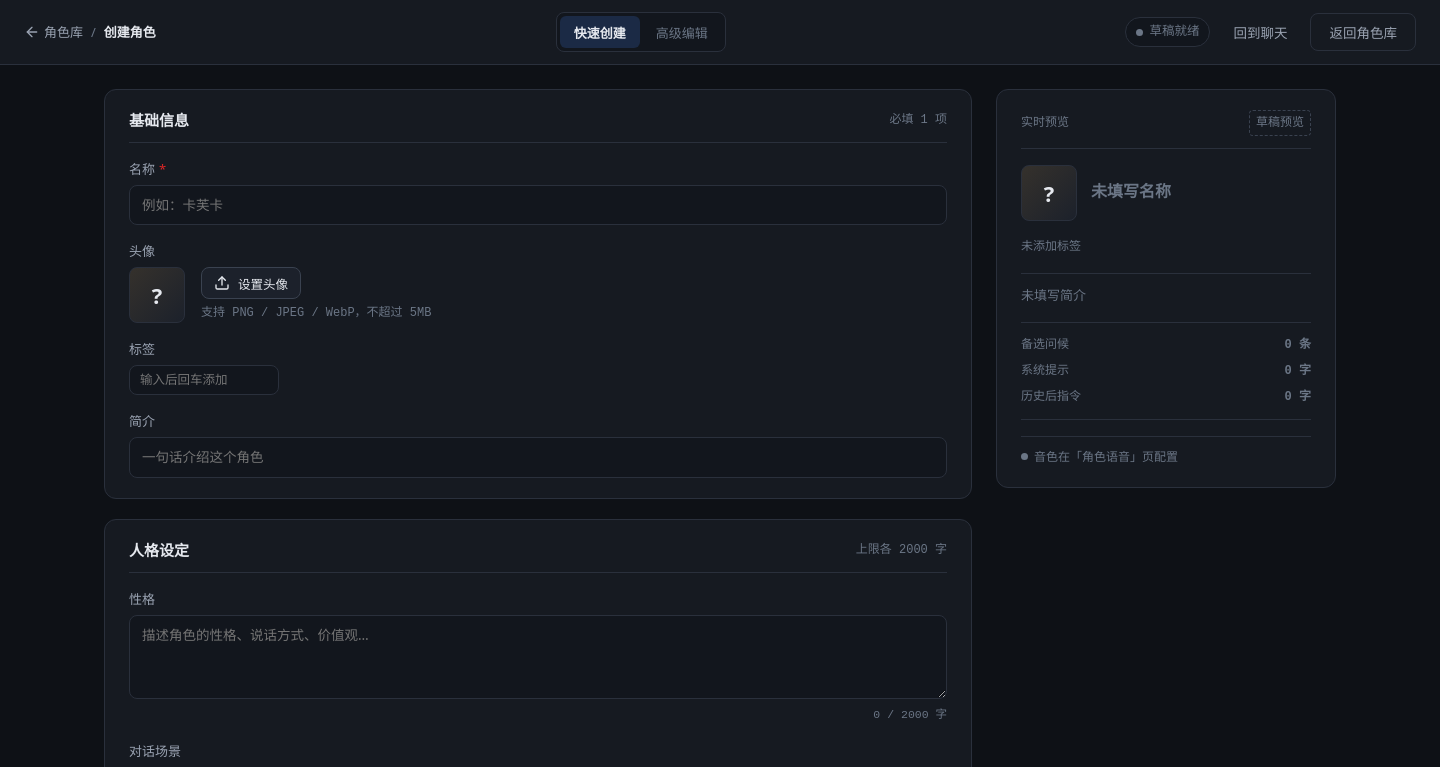
Test: CharacterCreatePage › 标签 › 点击删除按钮移除标签
This screenshot has width=1440, height=767.
Type "待删除标签" into the field named "添加标签" at [204, 380], box [129,365,279,395]
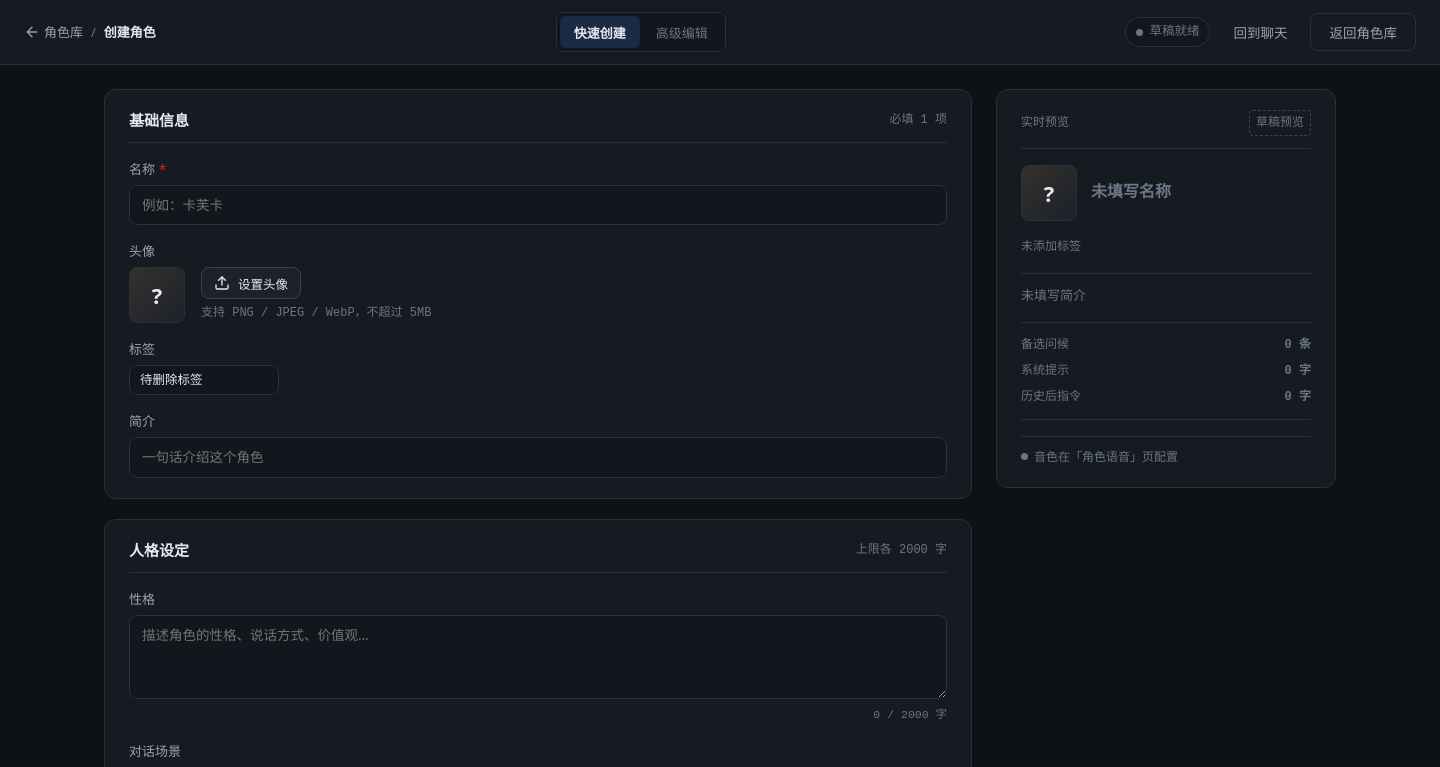
Press Enter in the field named "添加标签", box [129,365,279,395]
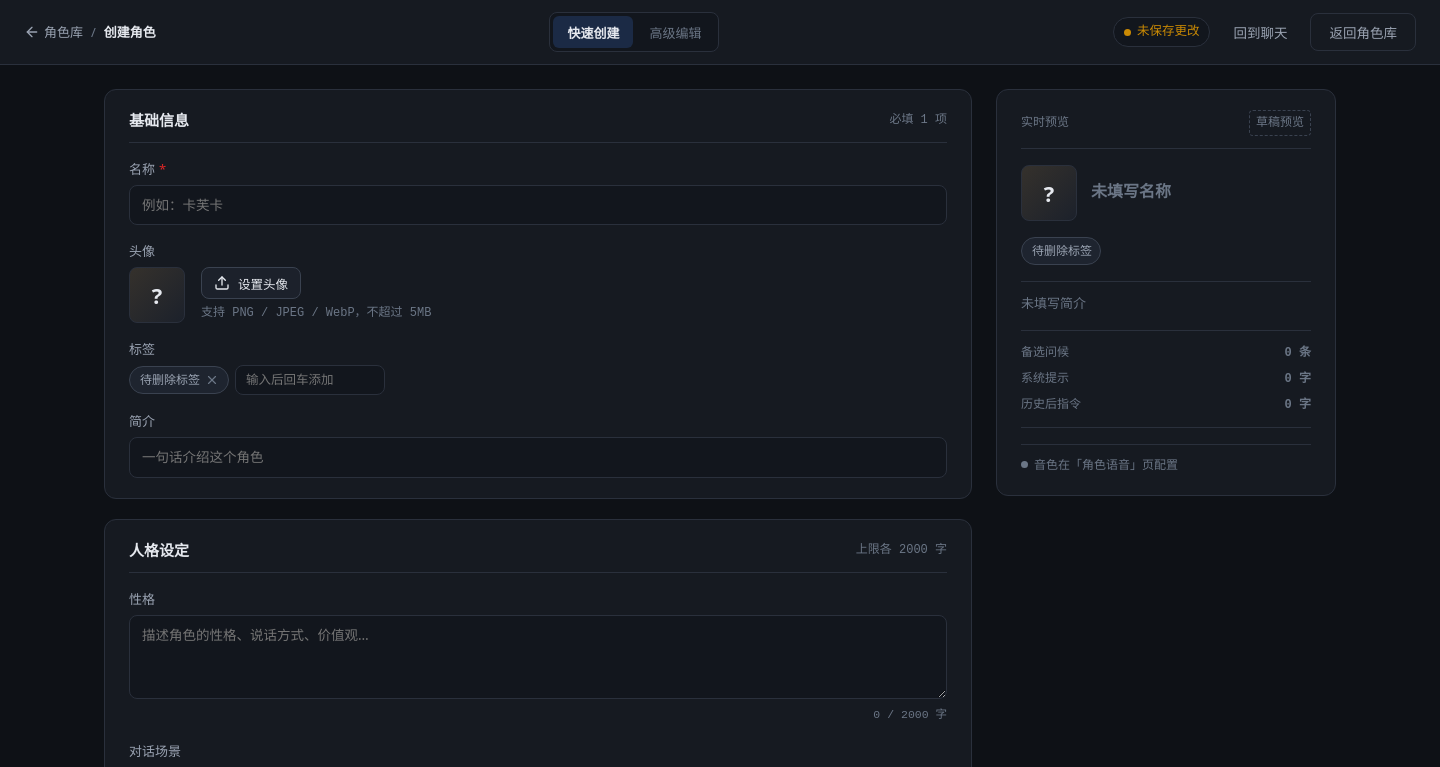
Result: the text "待删除标签" below "支持 PNG / JPEG / WebP，不超过 5MB" is shown at [140,371,200,388]
Click the button named "删除标签「待删除标签」" at [212, 380], box [204,372,220,388]
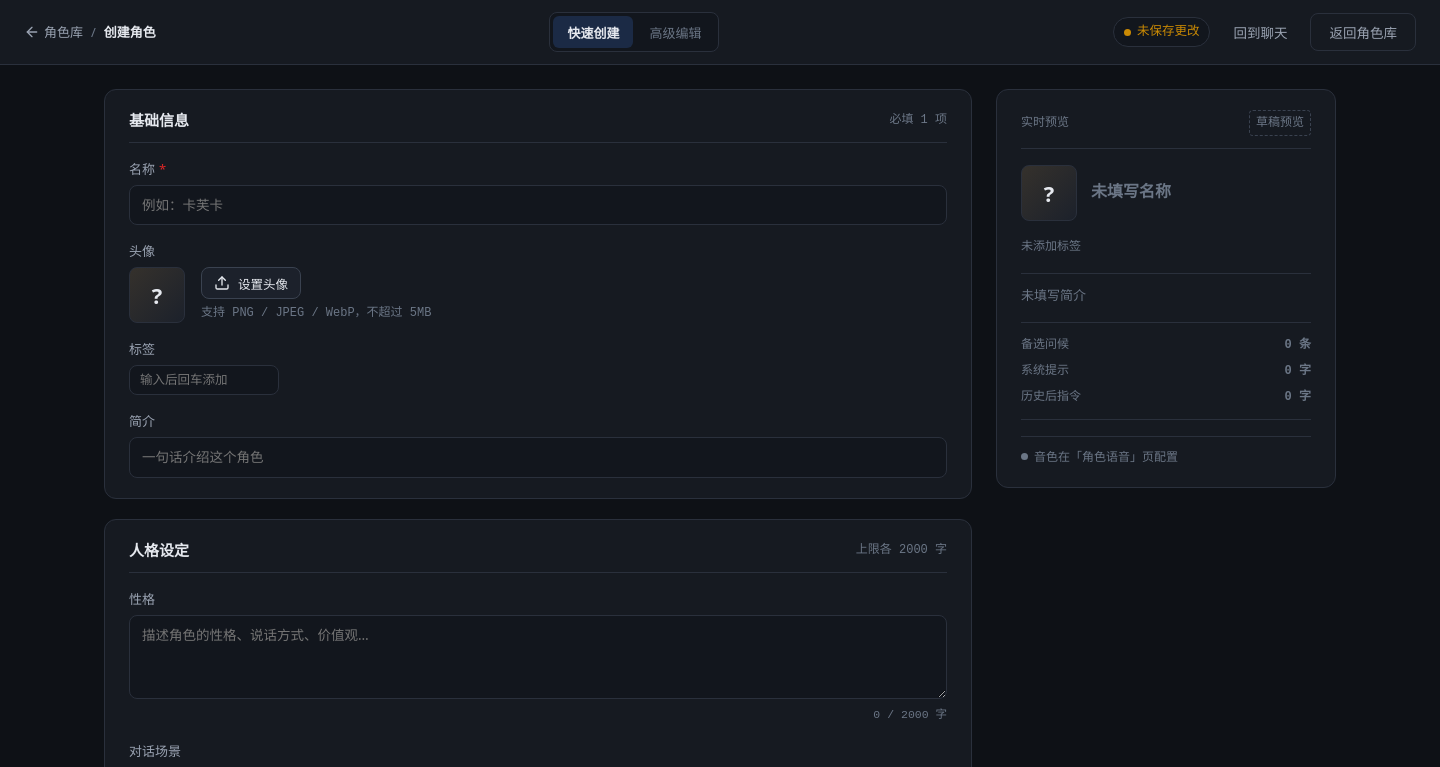
Result: the text "待删除标签" is gone
Result: the element with test id "preview-tags" reads "未添加标签" at [1021,240,1081,254]
